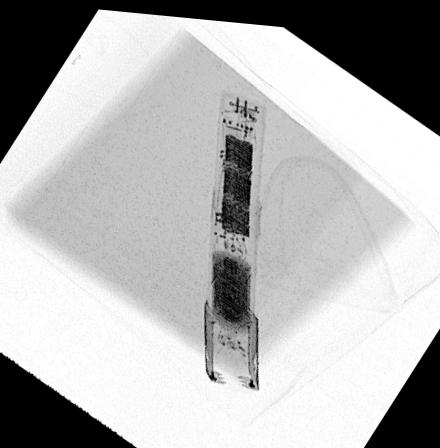Baton: (202, 84, 265, 386)
